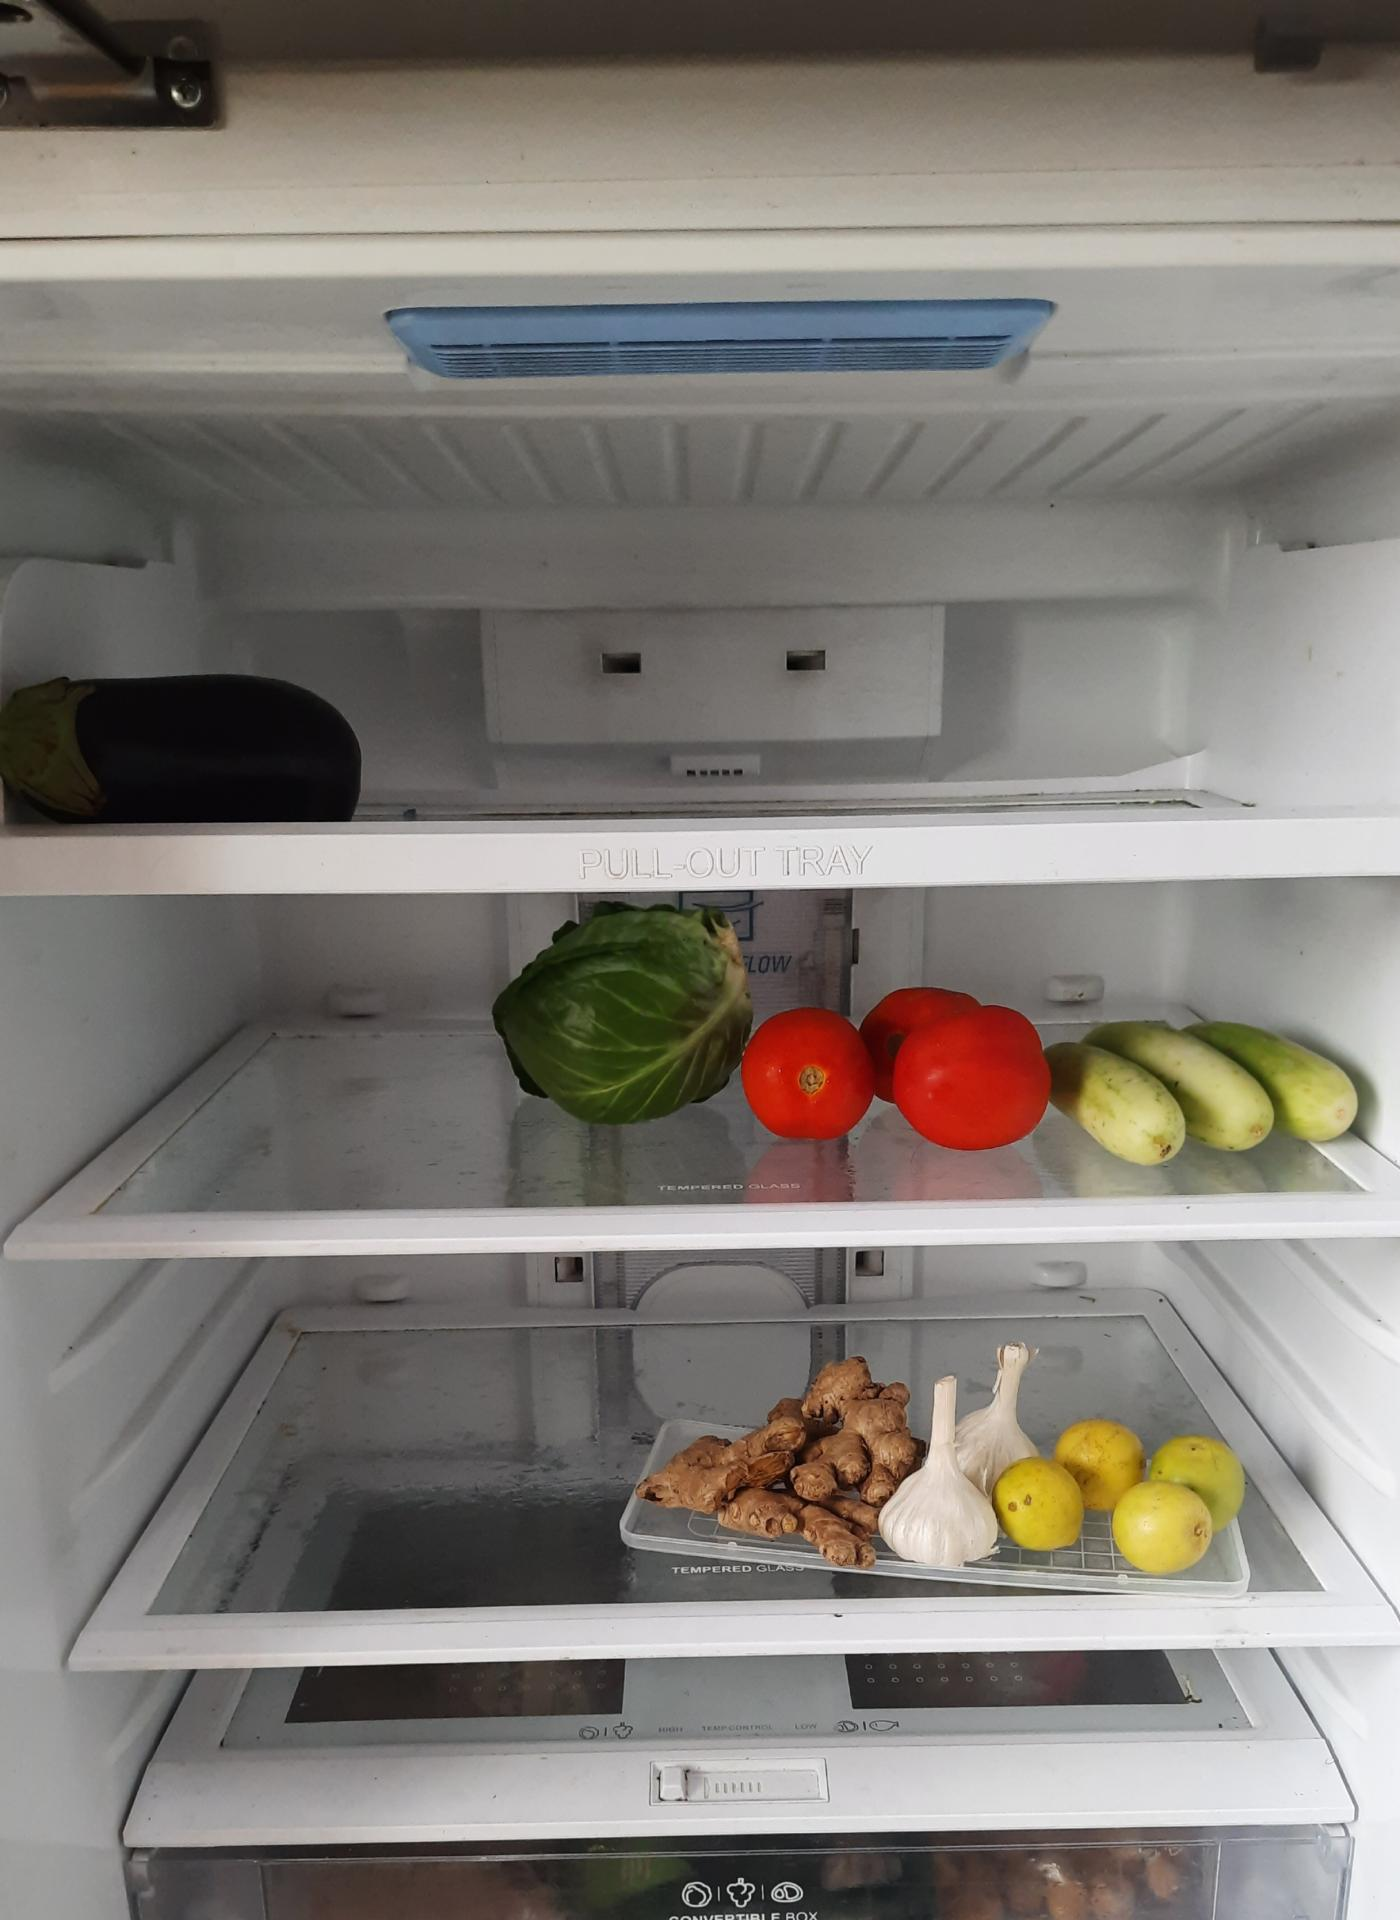brinjal: (0, 660, 376, 826)
cabbage: (489, 909, 750, 1125)
cucumber: (1071, 1017, 1370, 1176)
garlic: (918, 1348, 1041, 1576), (884, 1355, 997, 1568)
ginger: (640, 1345, 926, 1550)
lemon: (993, 1415, 1252, 1573)
tomato: (742, 976, 1045, 1145)
